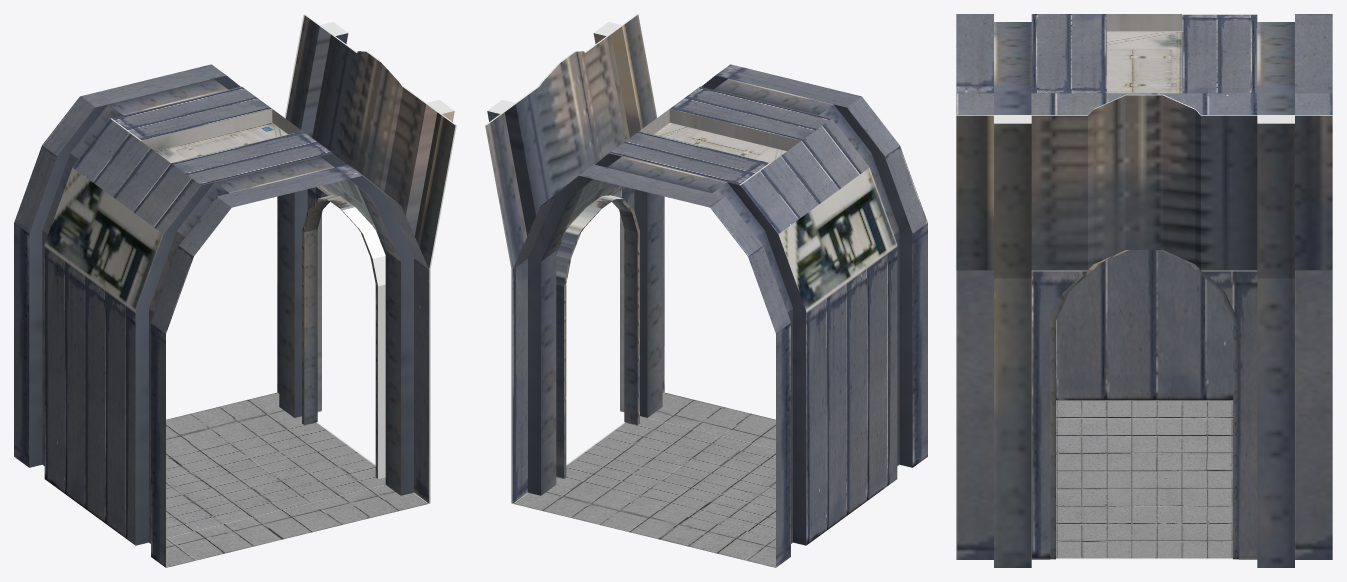
Rendered from door_hallway_1.fbx.
3 renders of one model, left to right at view 1: azimuth 30°, elevation 25°; view 2: azimuth 150°, elevation 25°; view 3: azimuth 270°, elevation 25°, orthographic. The views are drawn at different scales.
Visible parts, largest first — view 1: Plane; view 2: Plane; view 3: Plane.
Boxes of the visible parts, x1,y1,x2,y2 form: Plane: (14,14,456,567); Plane: (485,14,927,567); Plane: (956,14,1332,567).
Size of the model in its own units: 231 by 280 by 200.
